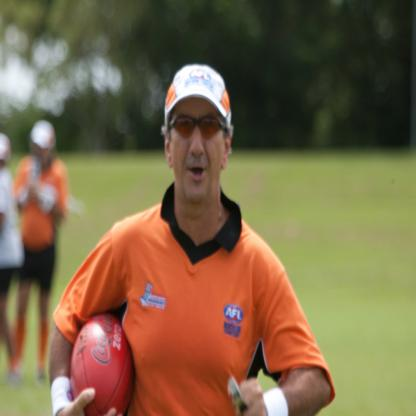Ball: (69, 312, 137, 416)
